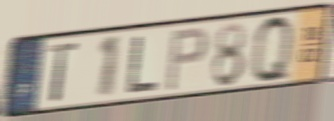1: (96, 33, 122, 102)
8: (209, 19, 251, 88)
L: (125, 33, 160, 96)
P: (164, 25, 210, 94)
Q: (251, 12, 294, 86)
T: (47, 40, 79, 103)
